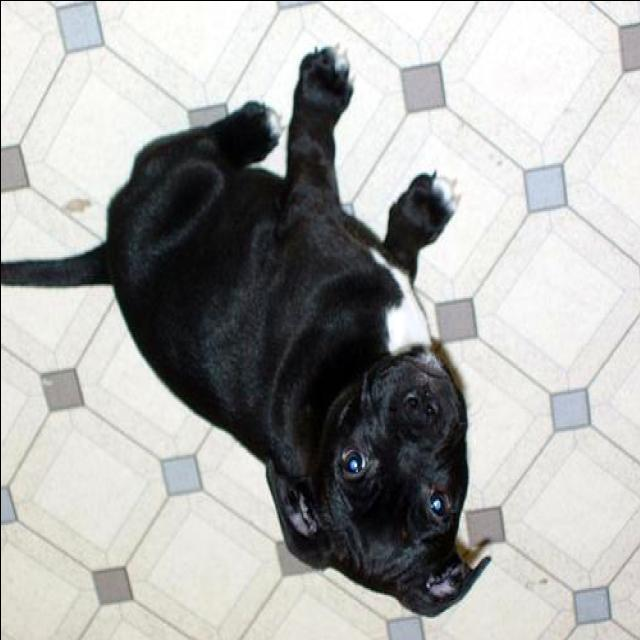staffordshire_bullterrier: (1, 36, 493, 622)
